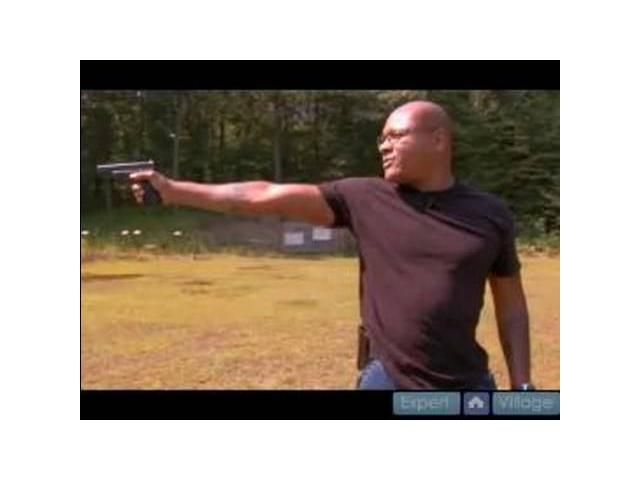pistol: (96, 159, 160, 212)
